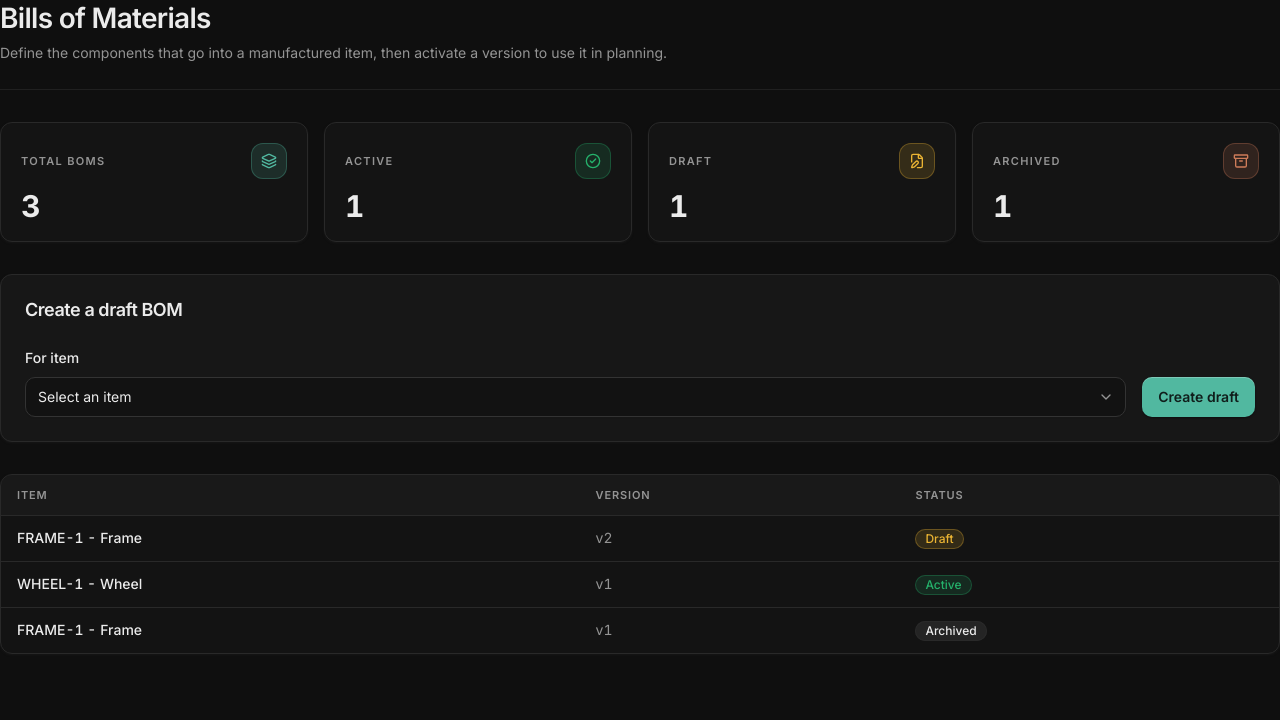
Scenario: Boms › creates a draft for the chosen item and opens it
The image size is (1280, 720).
Expected: the text "v2" is shown, [580,515,899,561]
Select "FRAME-1 - Frame" in the dropdown labelled "For item" at point(576, 397), box [25,377,1126,417]
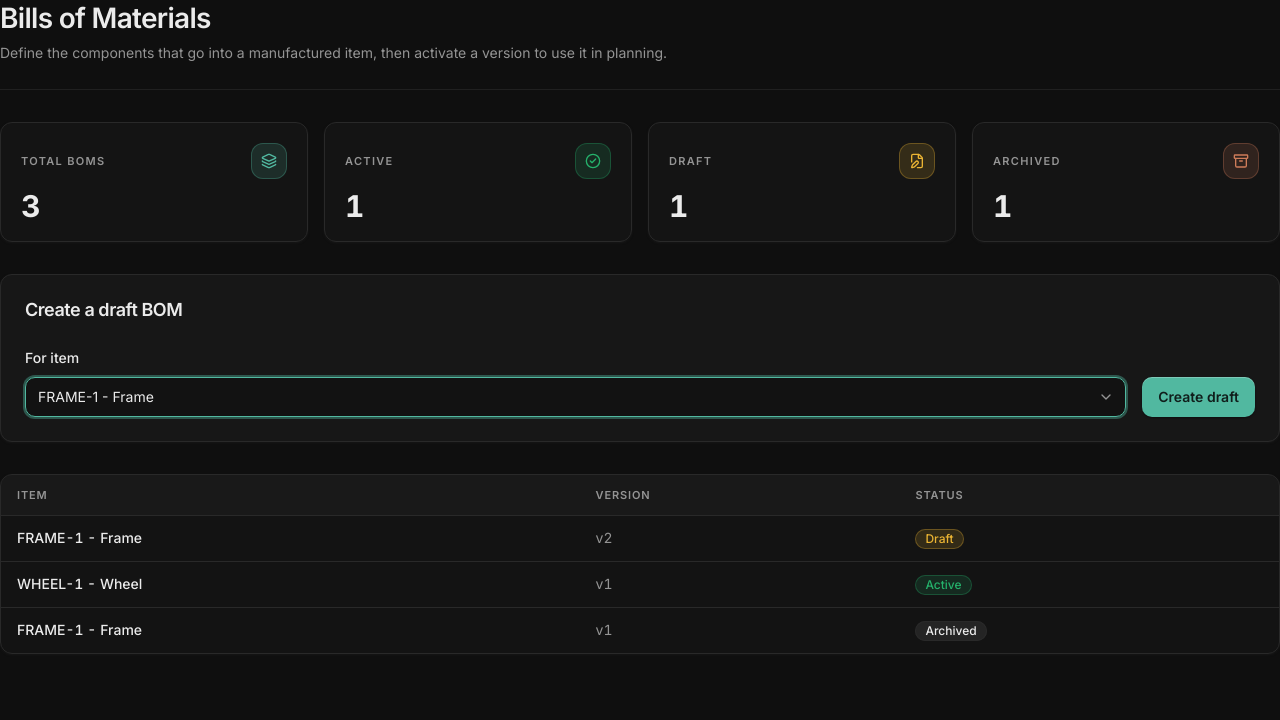
Click the button "Create draft" at point(1199, 397), box [1142,377,1255,417]
(page scrolled)
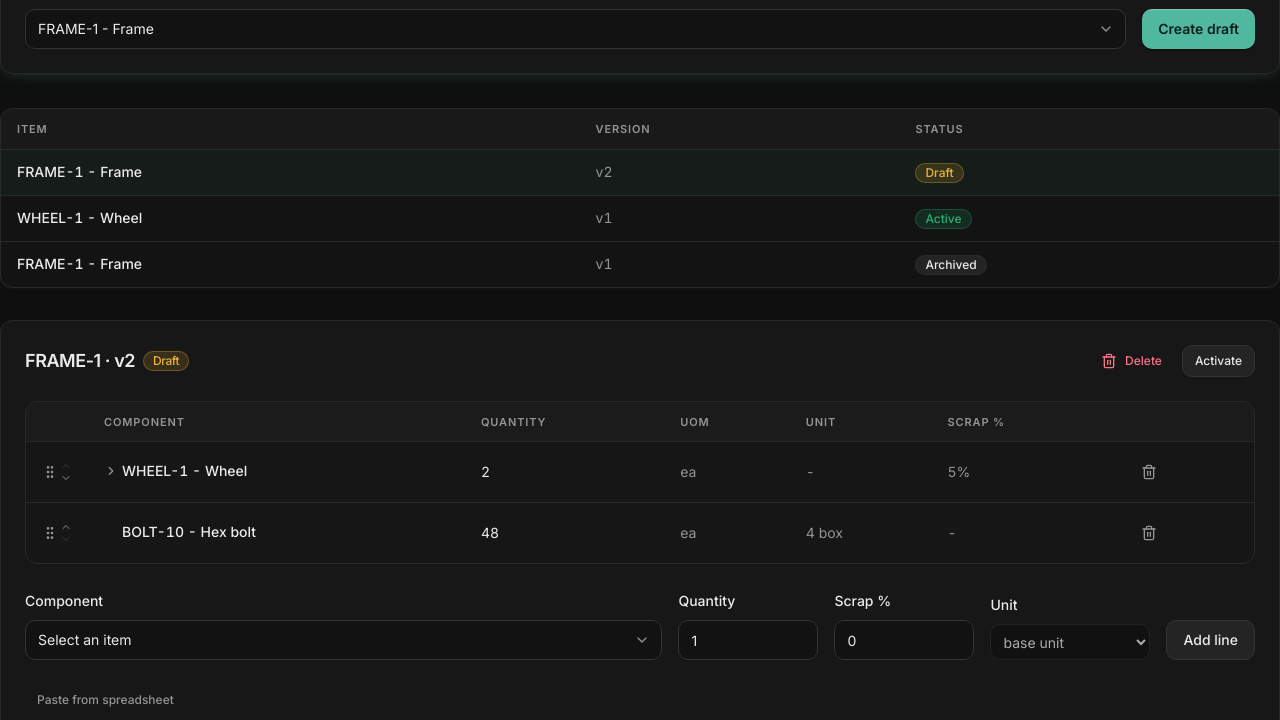
Expected: the heading "FRAME-1 · v2 Draft" is shown, [25,350,189,372]
